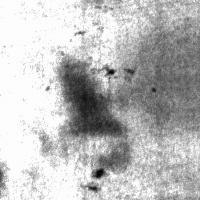patches: (118, 24, 200, 132), (60, 59, 124, 139)
